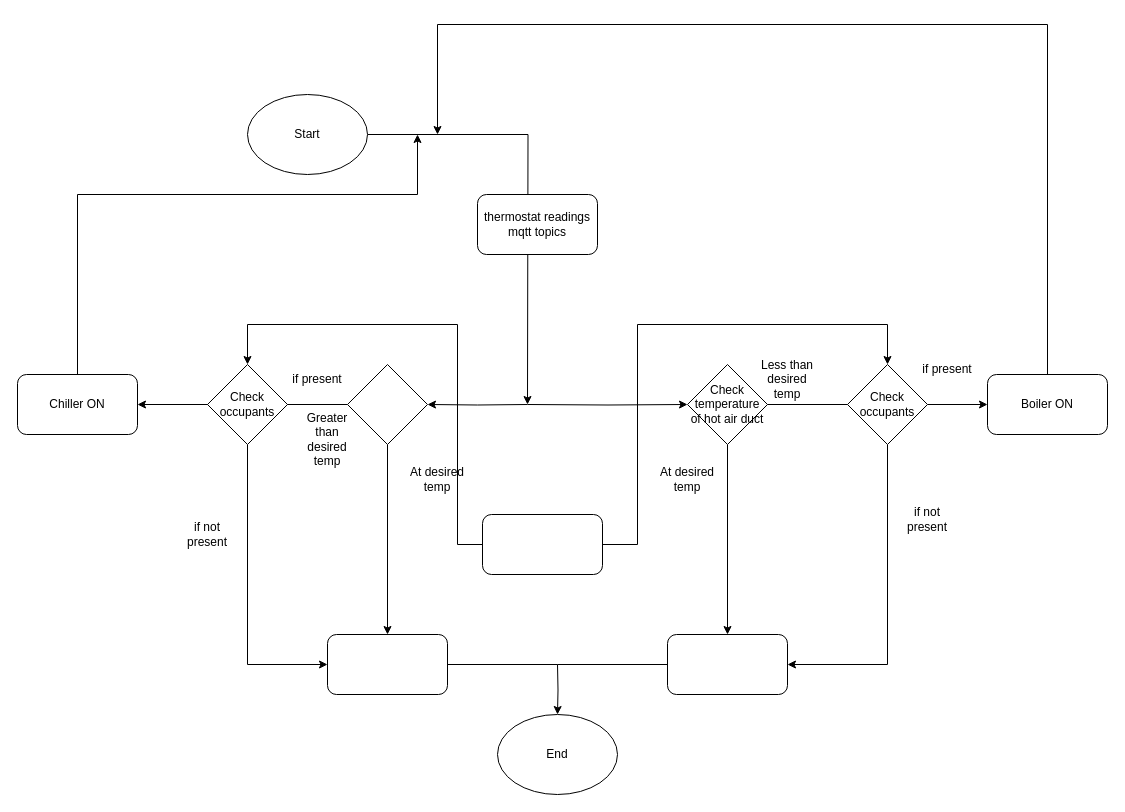
The diagram is 1125 pixels wide and 812 high, and some of its shapes have lost their labels. Each missing label, with the centre of its shape:
"Boiler OFF" goes at (x=727, y=664).
"Check temperature of cold air duct" goes at (x=387, y=404).
"Chiller OFF" goes at (x=387, y=664).
"Occupancy readings mqtt topics" goes at (x=542, y=544).
